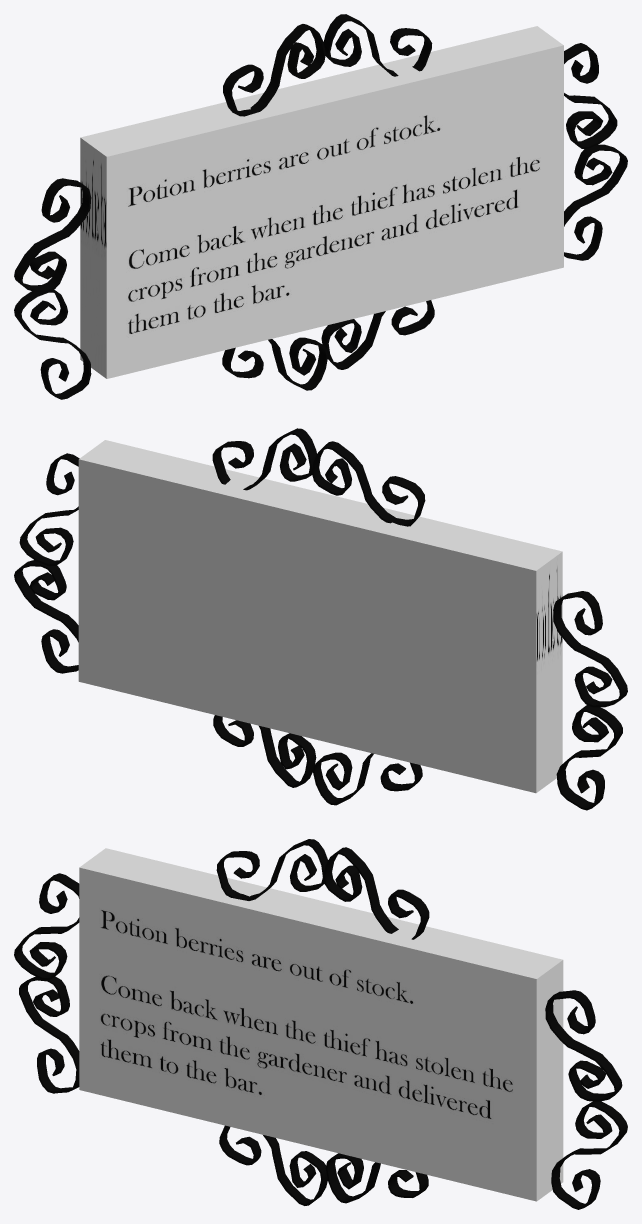
The model's file is berries out of stock2.fbx.
3 renders of one model, top to bottom at view 1: azimuth 30°, elevation 25°; view 2: azimuth 150°, elevation 25°; view 3: azimuth 330°, elevation 25°, orthographic.
Visible parts, largest first — view 1: spawn_gardner_garden:polySurface6; view 2: spawn_gardner_garden:polySurface6; view 3: spawn_gardner_garden:polySurface6.
Boxes of the visible parts, x1,y1,x2,y2 form: spawn_gardner_garden:polySurface6: (14, 14, 627, 399); spawn_gardner_garden:polySurface6: (14, 428, 627, 810); spawn_gardner_garden:polySurface6: (14, 839, 627, 1209).
Size of the model in its own units: 11.13 by 6.35 by 0.841.
